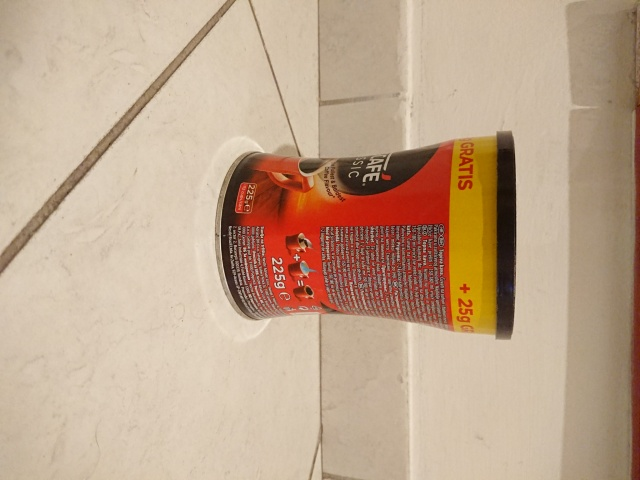Nescafe Classic 225g: (210, 127, 520, 343)
